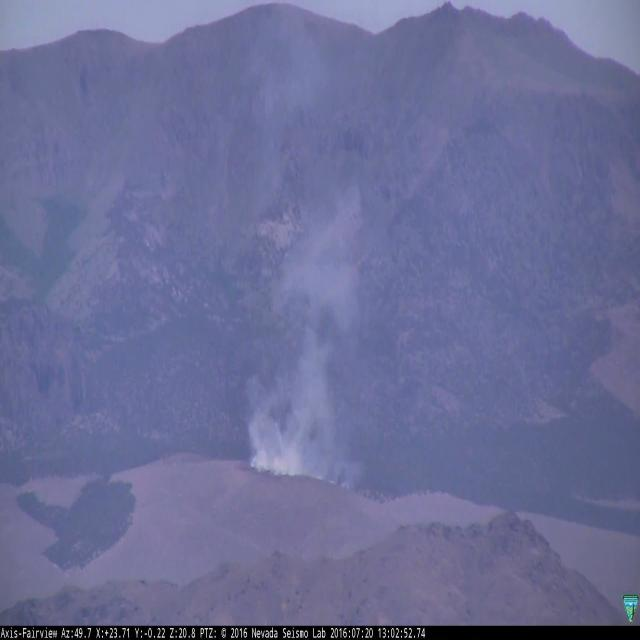smoke: (246, 170, 355, 494)
